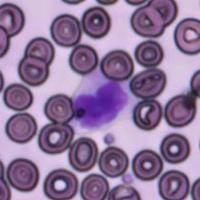M: (68, 68, 132, 132)
